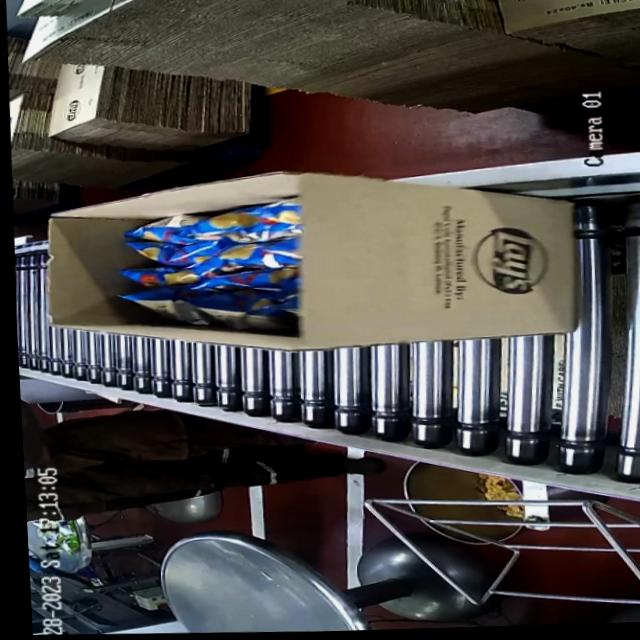PAPRIKA: (113, 183, 307, 331)
